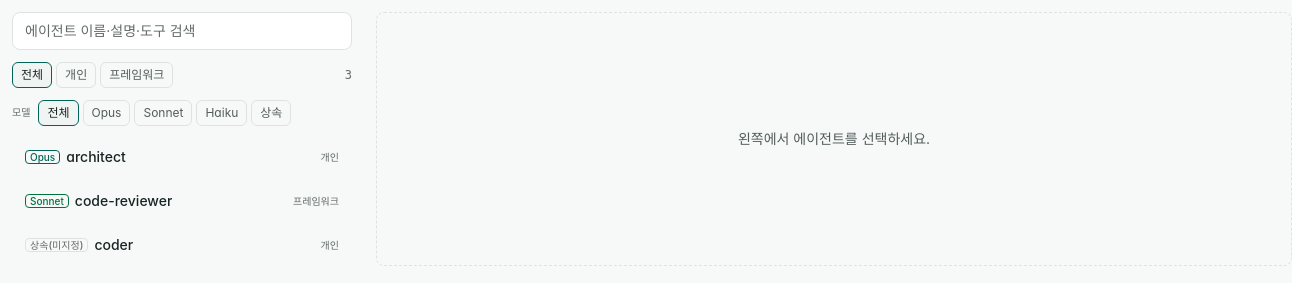
Test: AgentCatalog 필터 › 모델 필터(Opus) 시 해당 모델만 남는다
The image size is (1292, 283).
Step 1. Click the button "Opus" → (106, 113), box [82, 100, 130, 126]
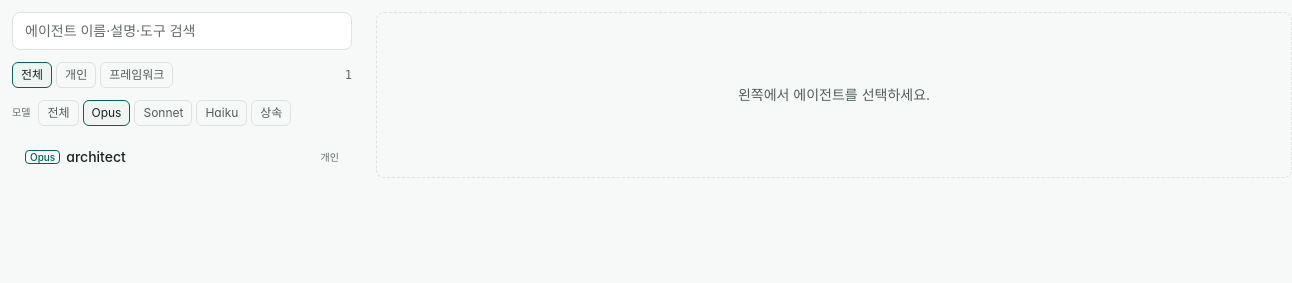
Check: the text "architect" is shown, box [66, 147, 126, 167]
Check: the button "code-reviewer" is gone
